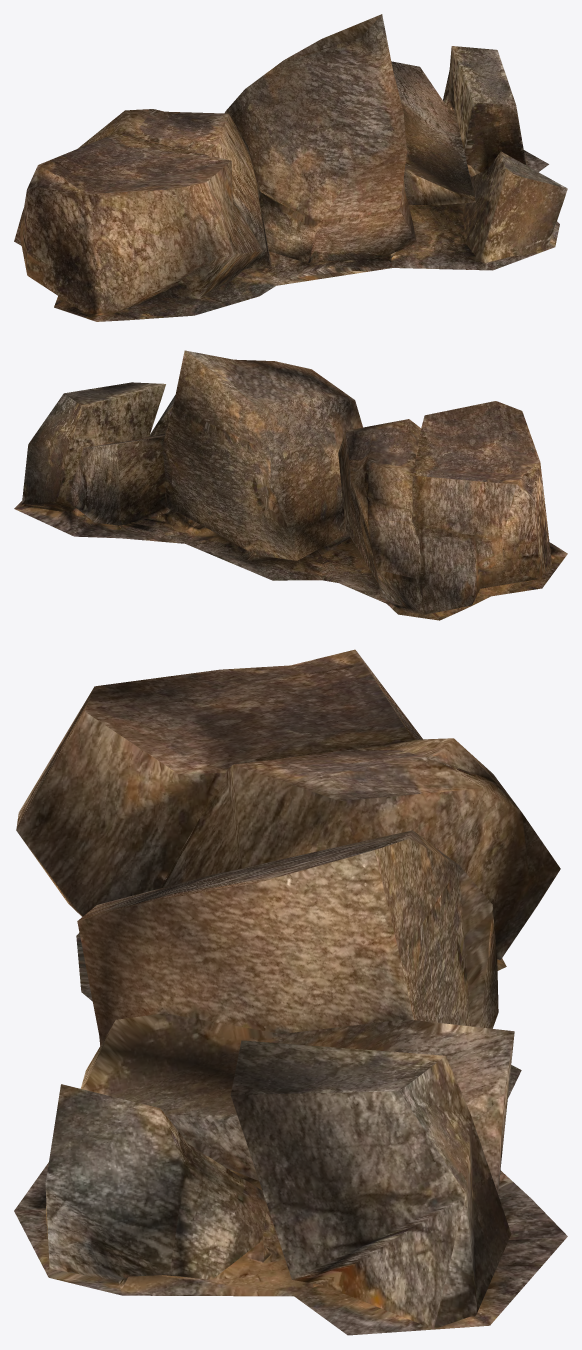
File: boulder2.glb
3 views of the same model, one above another, from view 1: azimuth 30°, elevation 25°; view 2: azimuth 150°, elevation 25°; view 3: azimuth 270°, elevation 25° (orthographic). The views are drawn at different scales.
Parts seen in each view (by area): view 1: lod1; view 2: lod1; view 3: lod1.
Part boxes in pixels (<box>): lod1: <box>14,14,567,321</box>; lod1: <box>14,350,567,620</box>; lod1: <box>14,649,567,1335</box>.
Size of the model in its own units: 5.01 by 1.75 by 2.47.
Materials: 1 (1 with a texture image).
